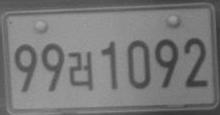0: (127, 39, 151, 90)
1: (98, 40, 123, 89)
2: (183, 37, 208, 87)
9: (154, 37, 180, 88), (13, 42, 38, 93), (40, 42, 65, 91)
러: (67, 50, 93, 91)
